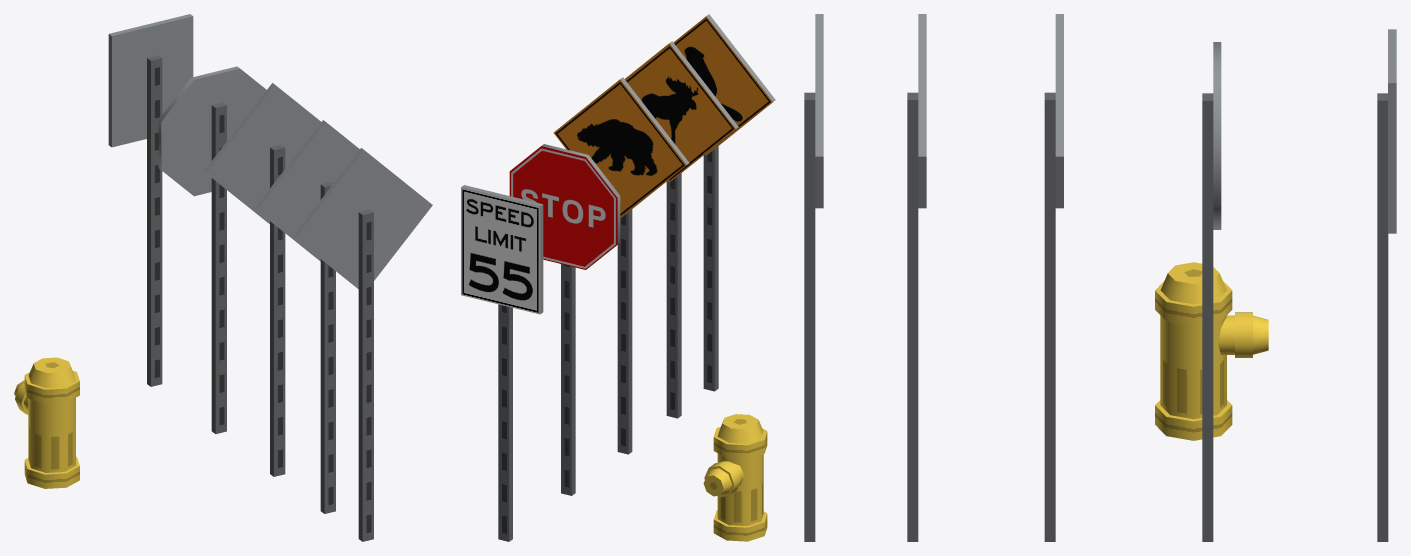
File: RoadSign.fbx
The picture shows the model from 3 angles, left to right: view 1: azimuth 30°, elevation 25°; view 2: azimuth 150°, elevation 25°; view 3: azimuth 270°, elevation 25°; orthographic projection. The views are drawn at different scales.
Visible parts, largest first — view 1: RoadSign_05, RoadSign_01, RoadSign_02, RoadSign_03, RoadSign_04, Fire_Hydrant; view 2: RoadSign_02, RoadSign_01, RoadSign_03, RoadSign_04, RoadSign_05, Fire_Hydrant; view 3: Fire_Hydrant, RoadSign_01, RoadSign_04, RoadSign_05, RoadSign_03, RoadSign_02.
Part boxes in pixels (box(x1,y1,x2,y2)): RoadSign_05: box(292, 148, 432, 541); RoadSign_01: box(108, 14, 193, 386); RoadSign_02: box(158, 66, 266, 433); RoadSign_03: box(204, 83, 320, 476); RoadSign_04: box(254, 120, 359, 513); Fire_Hydrant: box(14, 357, 79, 488); RoadSign_02: box(509, 144, 620, 495); RoadSign_01: box(461, 185, 543, 541); RoadSign_03: box(553, 77, 689, 454); RoadSign_04: box(625, 41, 738, 418); RoadSign_05: box(673, 14, 775, 391); Fire_Hydrant: box(703, 414, 767, 541); Fire_Hydrant: box(1155, 262, 1268, 440); RoadSign_01: box(1377, 29, 1396, 541); RoadSign_04: box(907, 14, 926, 541); RoadSign_05: box(804, 14, 823, 541); RoadSign_03: box(1044, 14, 1063, 541); RoadSign_02: box(1202, 42, 1221, 541).
Bounding box in the file's own units: 12.03 × 16.77 × 17.16.
Materials: 1 (1 with a texture image).
